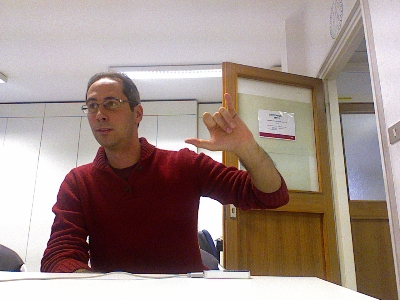六六六: (183, 92, 254, 152)
